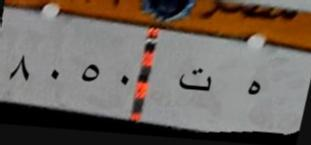0: (41, 62, 66, 85), (113, 67, 133, 90)
5: (74, 54, 103, 87)
8: (9, 50, 30, 85)
haa: (238, 70, 265, 105)
taa: (176, 62, 218, 101)
